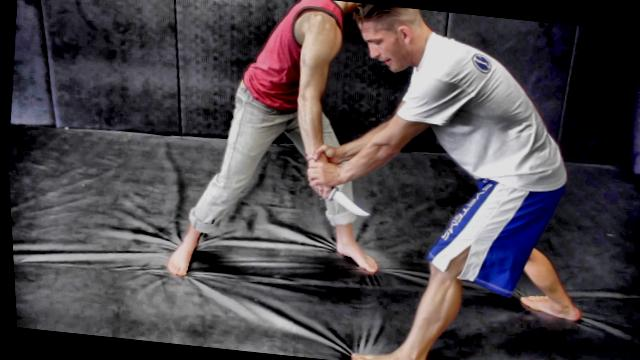knife: (302, 179, 375, 223)
